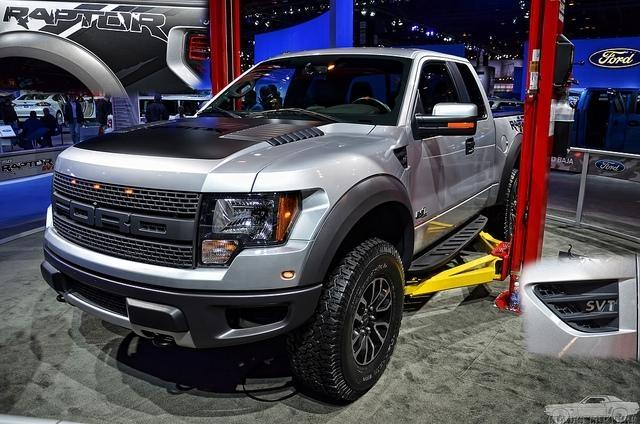car: (11, 93, 67, 125)
truck: (37, 54, 519, 411)
